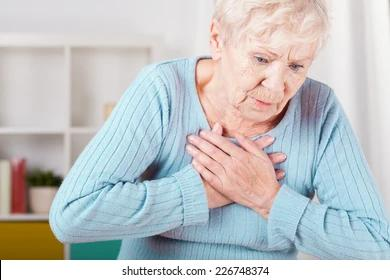pain: (245, 45, 315, 76)
